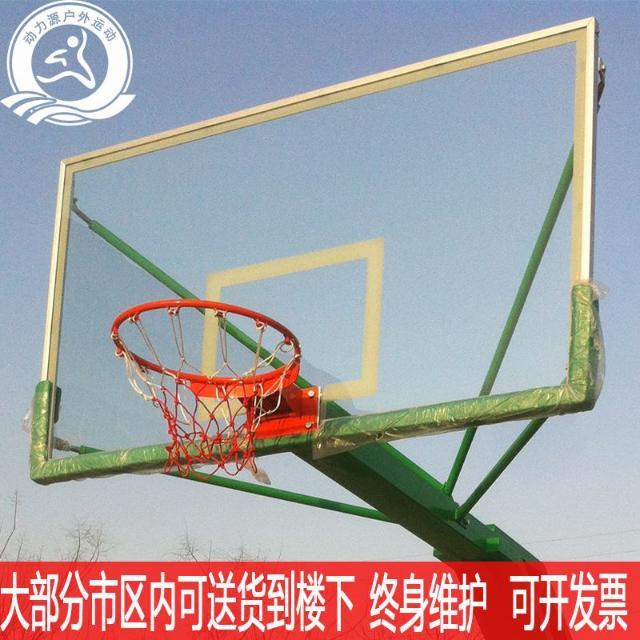rim: (113, 300, 303, 478)
